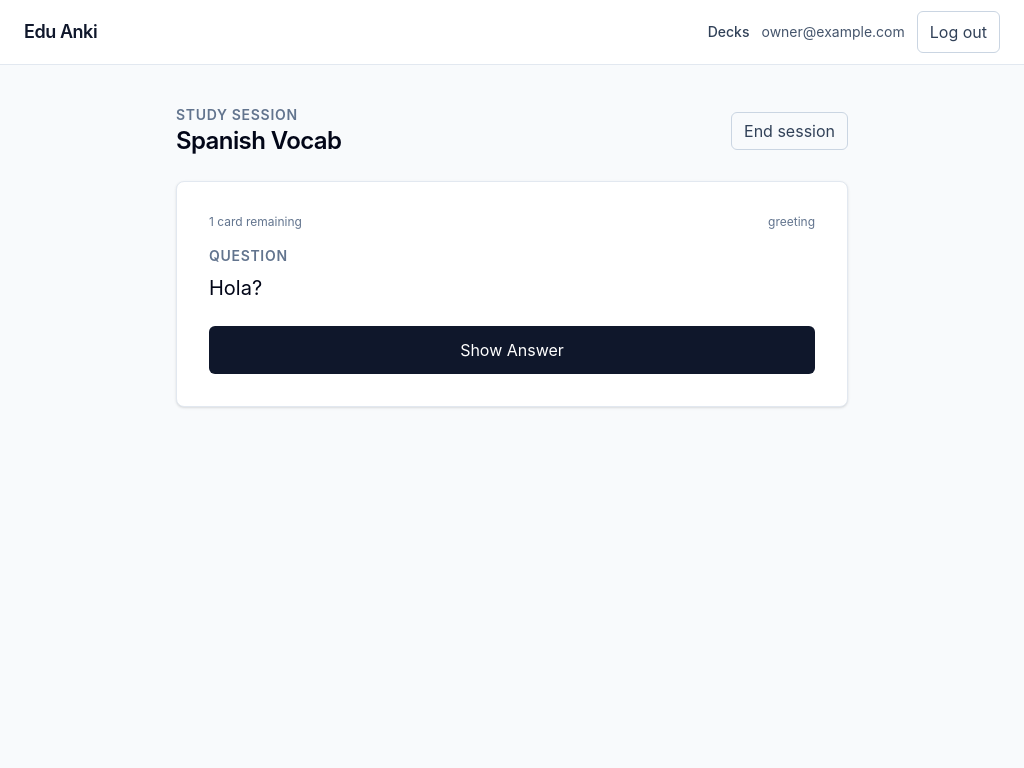
Test: Study route › reveals the answer without a page reload
Expected: the text "Hola?" is shown, [209,276,262,300]
Click the button "Show Answer".
click(512, 350)  # box [209,326,815,374]
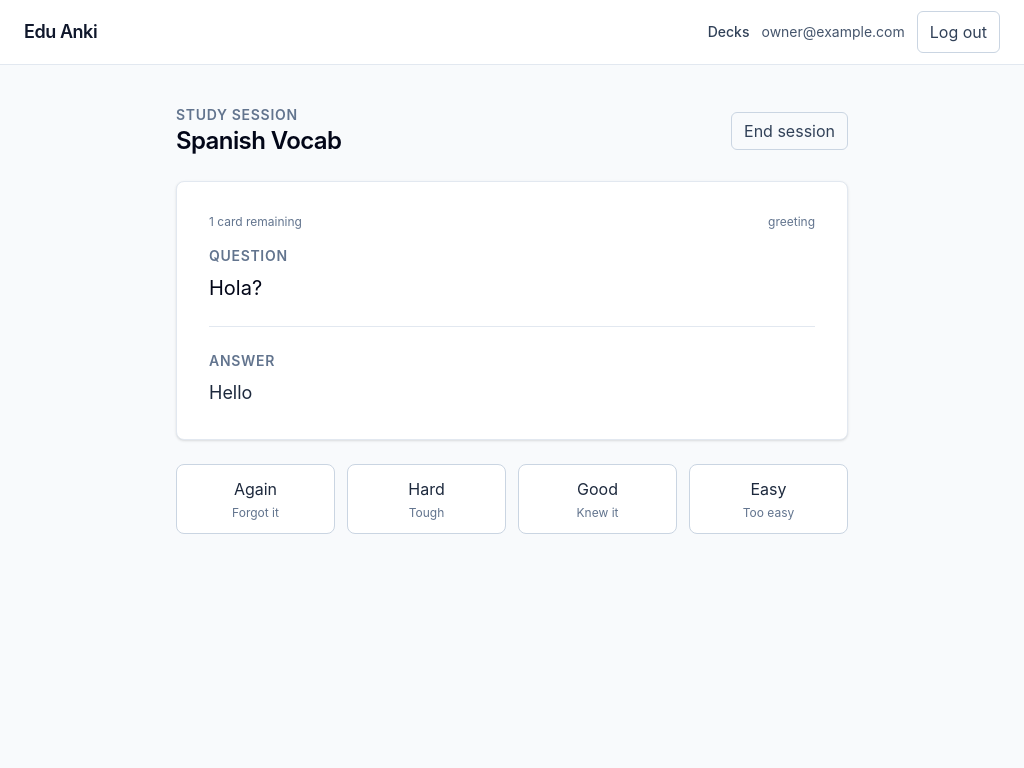
Result: the text "Hello" is shown at [209,382,252,403]
Result: the button "Again Forgot it" is shown at [176,464,335,534]
